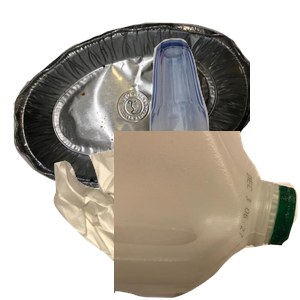glass: (147, 36, 300, 168)
metal: (11, 20, 251, 200)
plastic: (114, 131, 300, 300)
trash: (51, 142, 278, 300)
